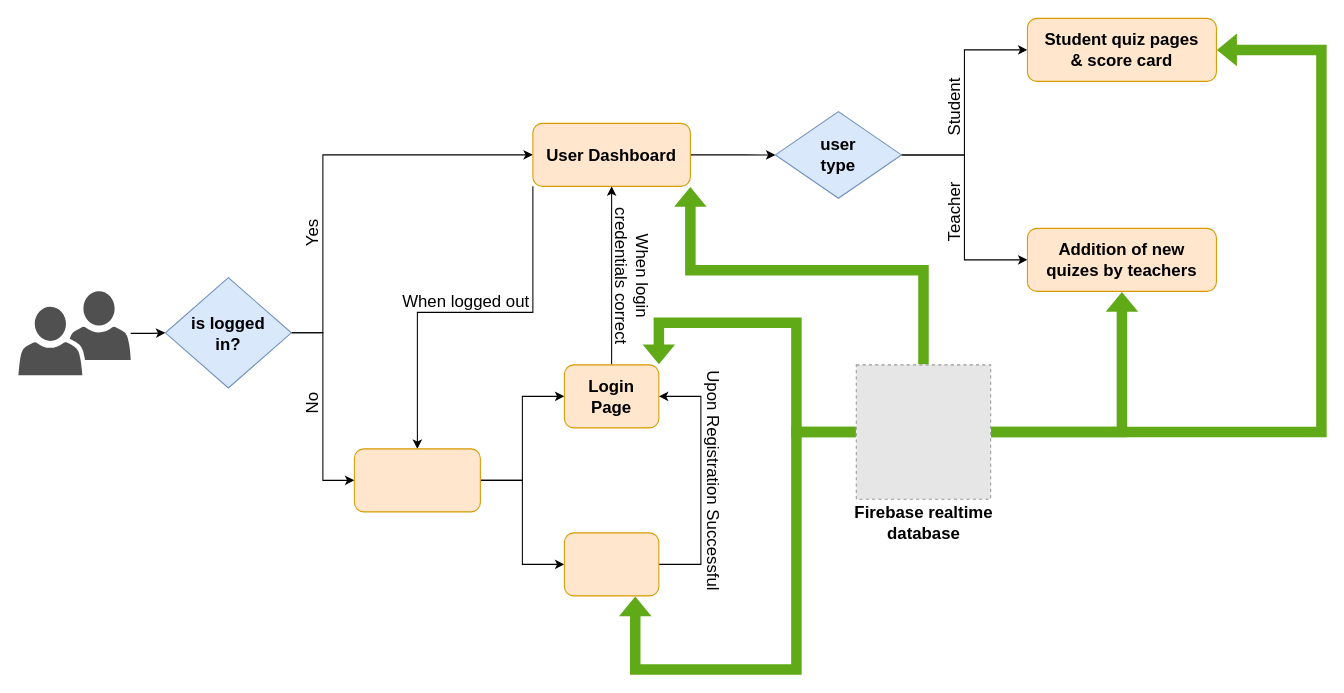
This 1344x693 diagram has some shape labels left out. Grey dashed boxes stand in for pictures. The centre of each missing label's shape, as x and y in pixels:
"Default Homescreen" belongs at (416,480).
"Register Page" belongs at (611,564).
"USERS" belongs at (74,333).
